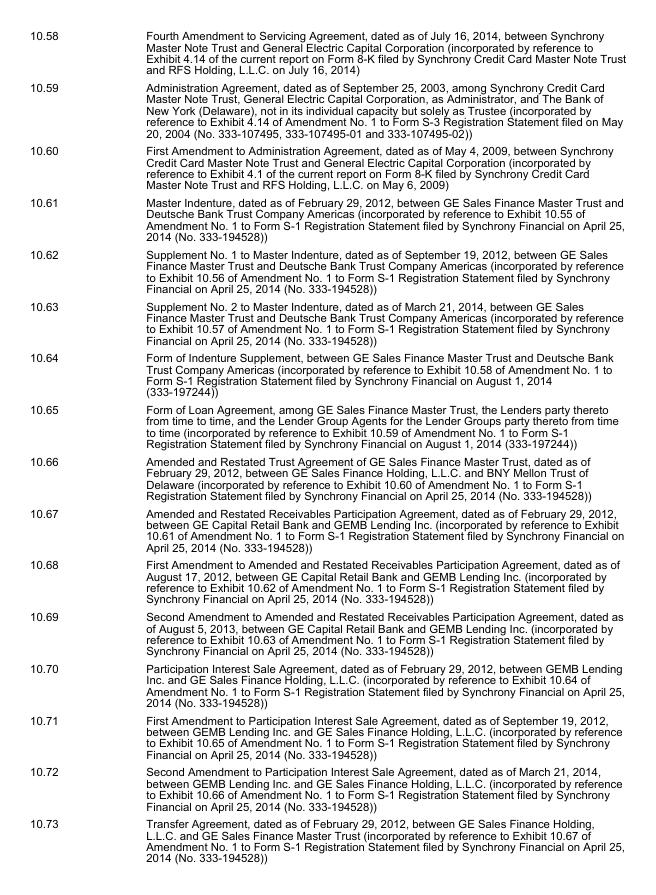table: (29, 29, 625, 863)
table column: (101, 29, 625, 863), (29, 29, 101, 863)
table row: (29, 78, 625, 141), (29, 141, 625, 193), (29, 193, 625, 245), (29, 296, 625, 348), (29, 348, 625, 400), (29, 400, 625, 452), (29, 503, 625, 555), (29, 555, 625, 607), (29, 607, 625, 659), (29, 710, 625, 762), (29, 762, 625, 814), (29, 245, 625, 296), (29, 452, 625, 503), (29, 659, 625, 710), (29, 29, 625, 78), (29, 814, 625, 863)
